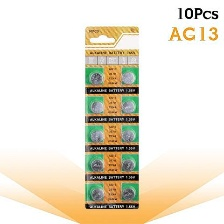battery: (118, 70, 137, 88), (118, 97, 135, 117), (118, 128, 136, 146), (88, 98, 105, 117), (118, 185, 135, 203), (119, 157, 136, 173), (88, 70, 105, 86), (89, 128, 105, 145), (89, 158, 104, 174), (89, 187, 103, 203)
book: (81, 22, 140, 211)
